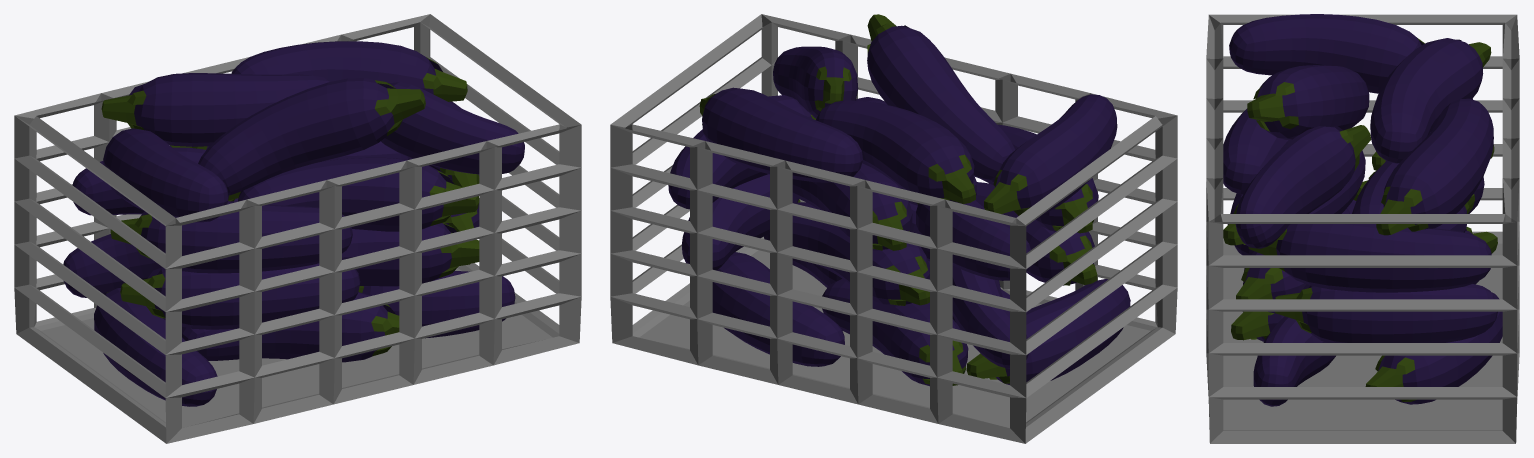
Rendered from box of cabbages.fbx.
The picture shows the model from 3 angles, left to right: view 1: azimuth 30°, elevation 25°; view 2: azimuth 150°, elevation 25°; view 3: azimuth 270°, elevation 25°; orthographic projection.
Visible parts, largest first — view 1: Cube, Cube.018, Cube.017, Cube.019, Cube.012, Cube.014, Cube.016, Cube.009, Cube.020, Cube.003, Cube.001, Cube.007 (+5 smaller); view 2: Cube, Cube.018, Cube.017, Cube.019, Cube.016, Cube.001, Cube.004, Cube.008, Cube.020, Cube.002, Cube.013, Cube.015 (+6 smaller); view 3: Cube, Cube.011, Cube.016, Cube.019, Cube.017, Cube.020, Cube.006, Cube.018, Cube.004, Cube.005, Cube.014, Cube.007 (+4 smaller).
Boxes of the visible parts, <box> form: Cube: <box>14,14,581,443</box>; Cube.018: <box>198,78,425,195</box>; Cube.017: <box>101,73,331,146</box>; Cube.019: <box>231,41,467,101</box>; Cube.012: <box>238,157,479,231</box>; Cube.014: <box>110,201,352,273</box>; Cube.016: <box>103,128,228,222</box>; Cube.009: <box>120,259,360,329</box>; Cube.020: <box>381,82,524,174</box>; Cube.003: <box>182,292,399,362</box>; Cube.001: <box>94,288,217,406</box>; Cube.007: <box>342,222,479,286</box>; Cube: <box>610,14,1177,443</box>; Cube.018: <box>867,14,1015,180</box>; Cube.017: <box>816,100,975,203</box>; Cube.019: <box>699,87,862,182</box>; Cube.016: <box>984,94,1117,215</box>; Cube.001: <box>966,279,1130,384</box>; Cube.004: <box>712,252,844,366</box>; Cube.008: <box>769,202,929,306</box>; Cube.020: <box>773,46,858,118</box>; Cube.002: <box>822,279,968,386</box>; Cube.013: <box>792,163,912,250</box>; Cube.015: <box>916,200,1030,280</box>; Cube: <box>1206,14,1519,443</box>; Cube.011: <box>1248,213,1491,292</box>; Cube.016: <box>1229,14,1424,93</box>; Cube.019: <box>1376,98,1493,235</box>; Cube.017: <box>1370,38,1491,163</box>; Cube.020: <box>1235,125,1371,248</box>; Cube.006: <box>1275,284,1497,342</box>; Cube.018: <box>1247,65,1369,140</box>; Cube.004: <box>1365,292,1502,404</box>; Cube.005: <box>1253,316,1335,406</box>; Cube.014: <box>1223,108,1290,194</box>; Cube.007: <box>1236,207,1349,313</box>.
Bounding box in the file's own units: 331 × 210 × 211.
